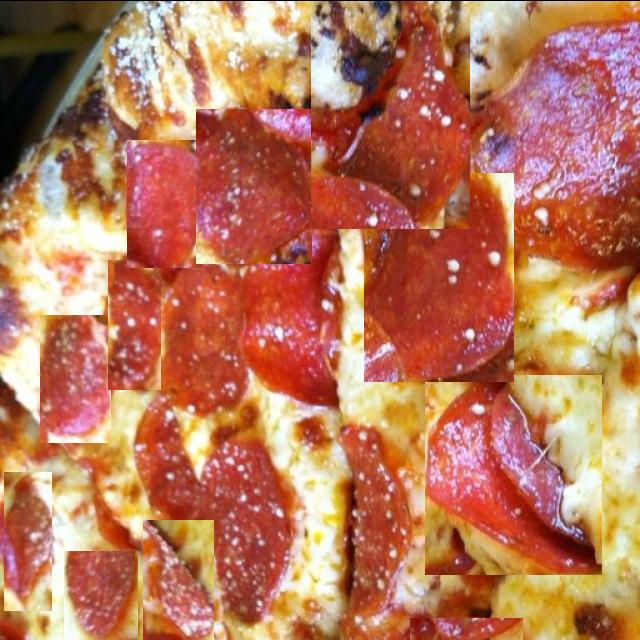pepperoni: (472, 22, 638, 270), (311, 0, 470, 228), (425, 374, 602, 574), (364, 172, 514, 381), (240, 220, 340, 403), (196, 108, 312, 263), (202, 437, 297, 621), (158, 256, 248, 416), (343, 423, 414, 618), (127, 139, 202, 267), (40, 314, 111, 442), (143, 519, 214, 640), (108, 259, 161, 389), (4, 471, 52, 610), (64, 550, 138, 640), (84, 469, 138, 551), (410, 617, 523, 640), (580, 275, 629, 321)
pizza: (0, 0, 640, 640)
